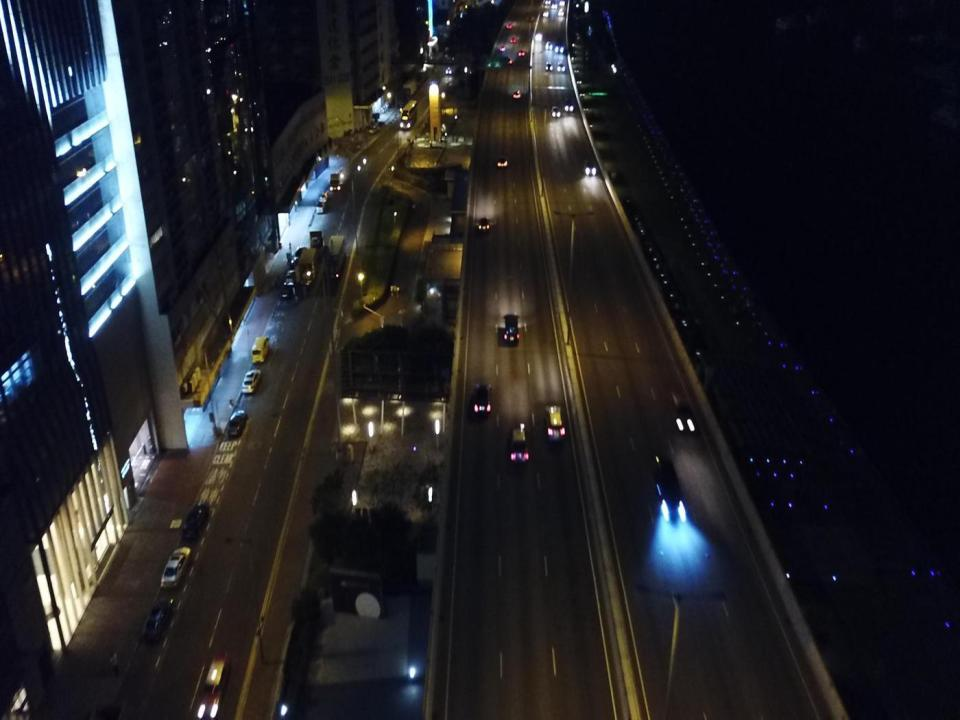bus: (400, 99, 417, 128)
car: (198, 652, 231, 717), (656, 455, 682, 518), (142, 598, 174, 643), (160, 548, 190, 588), (183, 503, 209, 539), (671, 392, 694, 431), (544, 405, 565, 442), (510, 428, 529, 465), (228, 410, 248, 437), (474, 384, 491, 414), (504, 314, 519, 344), (242, 369, 260, 394), (284, 269, 297, 285), (584, 160, 596, 176), (295, 248, 305, 264), (480, 217, 489, 234), (564, 98, 574, 111), (497, 156, 508, 167), (552, 106, 560, 118), (558, 61, 565, 71), (514, 90, 521, 98), (546, 41, 553, 49), (518, 49, 526, 56), (445, 67, 452, 74), (546, 62, 552, 70), (536, 33, 543, 39), (558, 9, 564, 16), (507, 21, 512, 28), (506, 58, 512, 63), (510, 37, 516, 42), (543, 10, 548, 16), (545, 0, 551, 5), (552, 3, 557, 8), (559, 0, 564, 5), (500, 46, 505, 50)
truck: (326, 234, 345, 279), (298, 248, 319, 283), (310, 230, 324, 258), (554, 36, 564, 52), (330, 173, 339, 190)
van: (252, 336, 269, 363), (319, 190, 328, 203), (315, 202, 325, 213)
